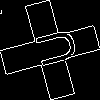U: (25, 25, 79, 72)
